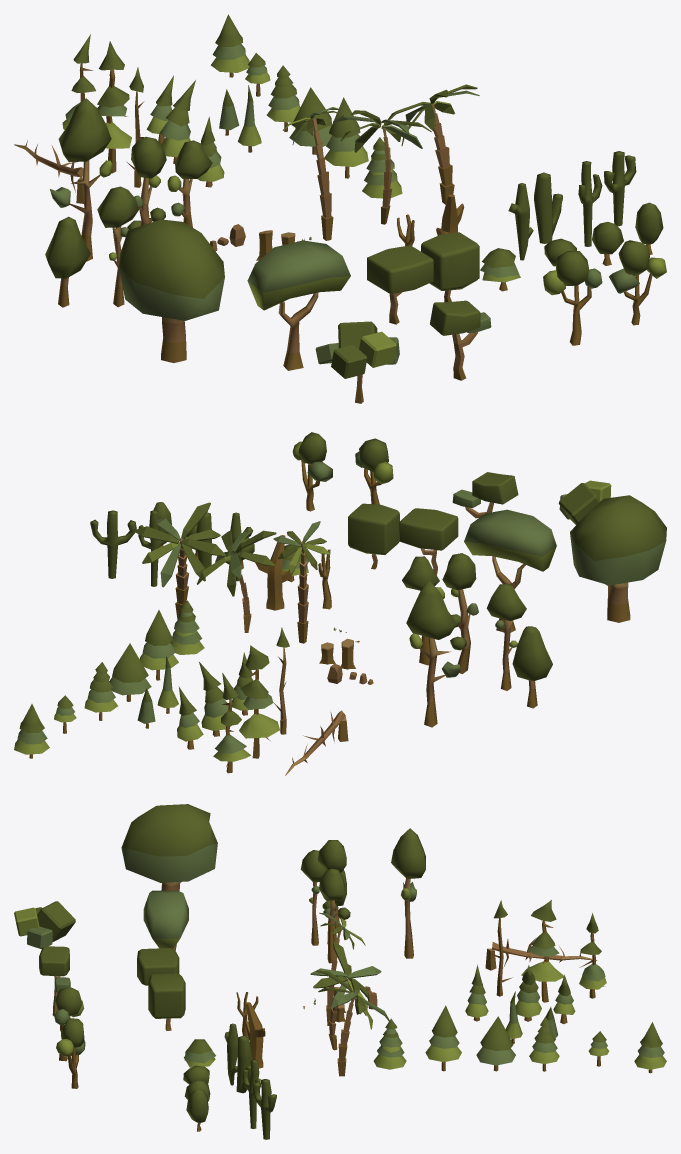
The model's file is SummerB.fbx.
3 renders of one model, top to bottom at view 1: azimuth 30°, elevation 25°; view 2: azimuth 150°, elevation 25°; view 3: azimuth 270°, elevation 25°, orthographic. The views are drawn at different scales.
Visible parts, largest first — view 1: tree_gen11, tree_gen10, tree_gen7, tree26, tree25, tree24, tree_gen9, tree28, tree_Maple2, tree27, Tree_Palm_003, Tree2 (+25 smaller); view 2: tree_gen11, tree_gen10, Tree_Palm_003, tree_gen7, tree24, tree25, Tree2, tree_fir4, Tree_palm2, palm4, tree_Maple2, tree28 (+20 smaller); view 3: tree_gen11, tree_gen10, tree_gen7, tree26, tree24, Tree_palm2, tree_fir4, Tree_Palm_003, Gen_Tree_Fir30, Gen_Tree_Fir35, tree25, tree28 (+22 smaller).
Part boxes in pixels (x1,y1,x2,y2): tree_gen11: (119,219,224,362); tree_gen10: (247,240,350,370); tree_gen7: (50,98,112,261); tree26: (315,321,399,403); tree25: (367,245,433,324); tree24: (421,232,479,302); tree_gen9: (543,251,602,345); tree28: (430,300,491,380); tree_Maple2: (45,216,90,307); tree27: (609,240,666,325); Tree_Palm_003: (387,84,479,204); Tree2: (127,137,166,229); tree_gen11: (570,495,666,622); tree_gen10: (464,509,556,632); Tree_Palm_003: (134,502,225,619); tree_gen7: (406,581,460,727); tree24: (348,503,399,569); tree25: (399,508,458,575); Tree2: (442,553,478,673); tree_fir4: (239,645,279,758); Tree_palm2: (197,530,276,632); palm4: (273,521,329,643); tree_Maple2: (512,626,552,708); tree28: (452,472,518,518); tree_gen11: (121,804,217,891); tree_gen10: (143,890,188,950); tree_gen7: (391,828,425,958); tree26: (14,901,75,948); tree24: (148,973,185,1030); Tree_palm2: (310,941,381,1050); tree_fir4: (521,900,563,1002); Tree_Palm_003: (316,970,390,1076); Gen_Tree_Fir30: (425,1005,461,1071); Gen_Tree_Fir35: (476,1016,515,1071); tree25: (137,948,179,985); tree28: (39,946,70,1016).
Bounding box in the file's own units: 26.16 × 7.74 × 32.17.
